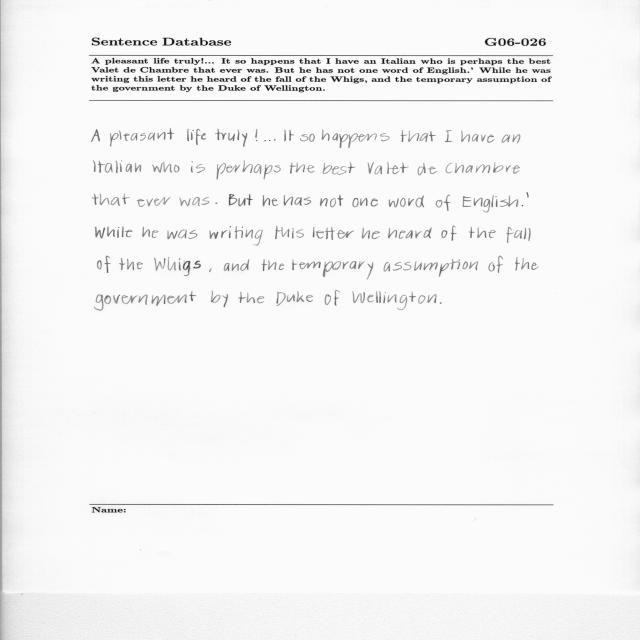word: (95, 291, 196, 311), (384, 259, 478, 277), (292, 260, 373, 280), (353, 291, 437, 310), (322, 130, 390, 149), (216, 161, 281, 180), (110, 129, 174, 147), (209, 226, 263, 246), (463, 195, 519, 213), (445, 162, 520, 174), (154, 257, 201, 276), (215, 129, 247, 147), (94, 161, 142, 173), (277, 291, 313, 306), (313, 227, 354, 240), (388, 227, 432, 239), (367, 162, 409, 174), (96, 226, 133, 239), (92, 194, 130, 206), (322, 162, 356, 175), (400, 130, 436, 142), (389, 196, 424, 208), (461, 131, 495, 143), (506, 227, 531, 243), (275, 226, 304, 239), (137, 197, 171, 207), (152, 161, 179, 173), (187, 129, 207, 145), (320, 195, 344, 208), (515, 257, 539, 270), (284, 195, 312, 206), (168, 230, 198, 240), (224, 260, 249, 272), (469, 227, 496, 238), (211, 291, 228, 308), (229, 194, 253, 206), (119, 258, 143, 270), (238, 292, 264, 303), (262, 259, 285, 271), (290, 163, 315, 174), (180, 197, 210, 206), (436, 194, 451, 211), (488, 256, 503, 273), (418, 163, 438, 175), (441, 226, 457, 241), (325, 290, 340, 306), (353, 198, 379, 207), (98, 256, 111, 273), (362, 228, 380, 239), (143, 227, 159, 238), (502, 135, 521, 144), (191, 161, 205, 173), (263, 195, 278, 206), (300, 134, 315, 142), (91, 129, 100, 142), (285, 130, 295, 141), (445, 130, 452, 142), (256, 129, 258, 141), (264, 140, 276, 142), (526, 192, 529, 198), (209, 268, 212, 272), (216, 202, 218, 204), (440, 302, 442, 304), (522, 205, 524, 206)
